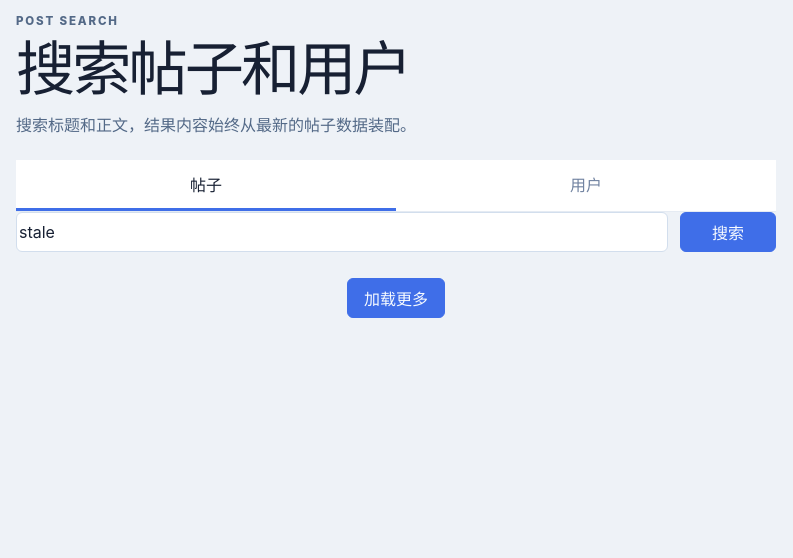
Test case: keeps continuation accessible after an empty stale-hit page
This screenshot has width=793, height=558.
Click the button "加载更多": (396,298) [347, 278, 445, 318]
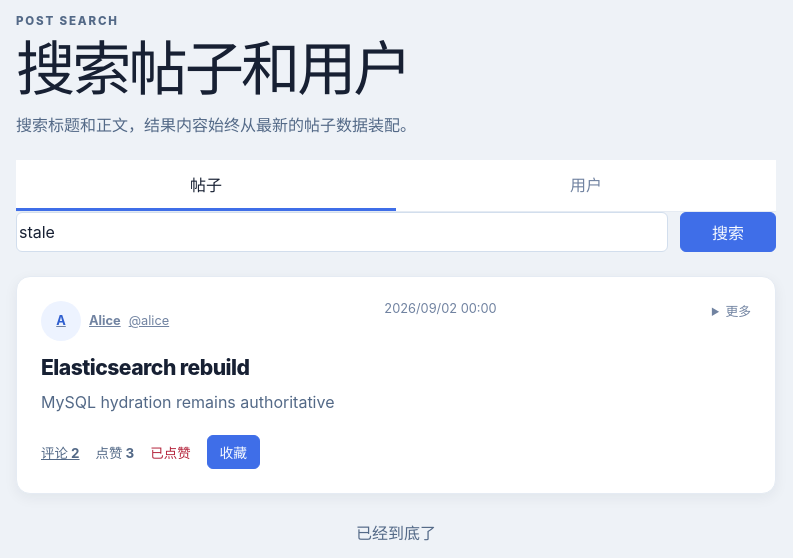
Check: the text "Elasticsearch rebuild" is shown, box [41, 355, 249, 380]
